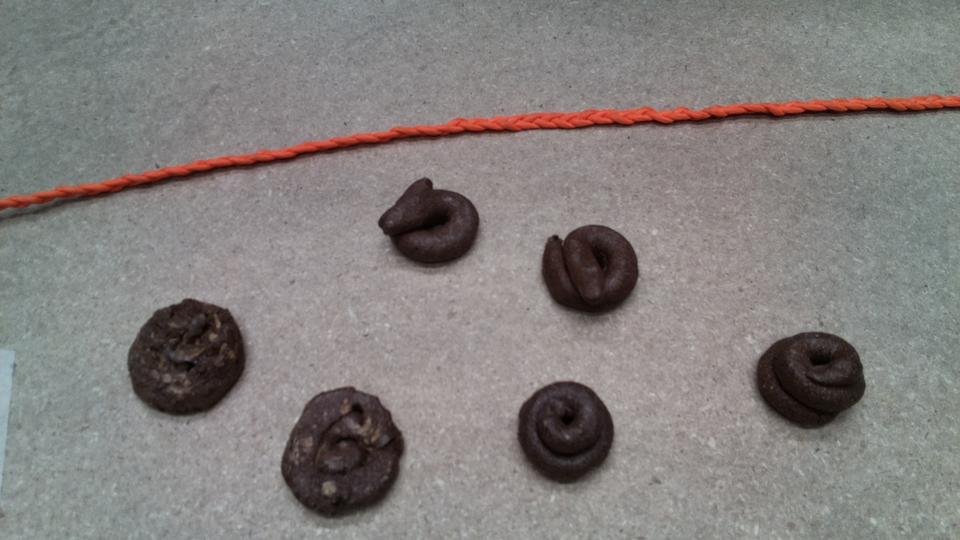poop: (278, 384, 415, 515), (125, 295, 254, 424), (749, 324, 878, 435), (367, 170, 490, 270), (514, 377, 620, 489), (536, 220, 644, 319)
rope: (514, 85, 960, 128), (122, 138, 307, 210), (278, 109, 533, 161), (2, 168, 154, 237)
